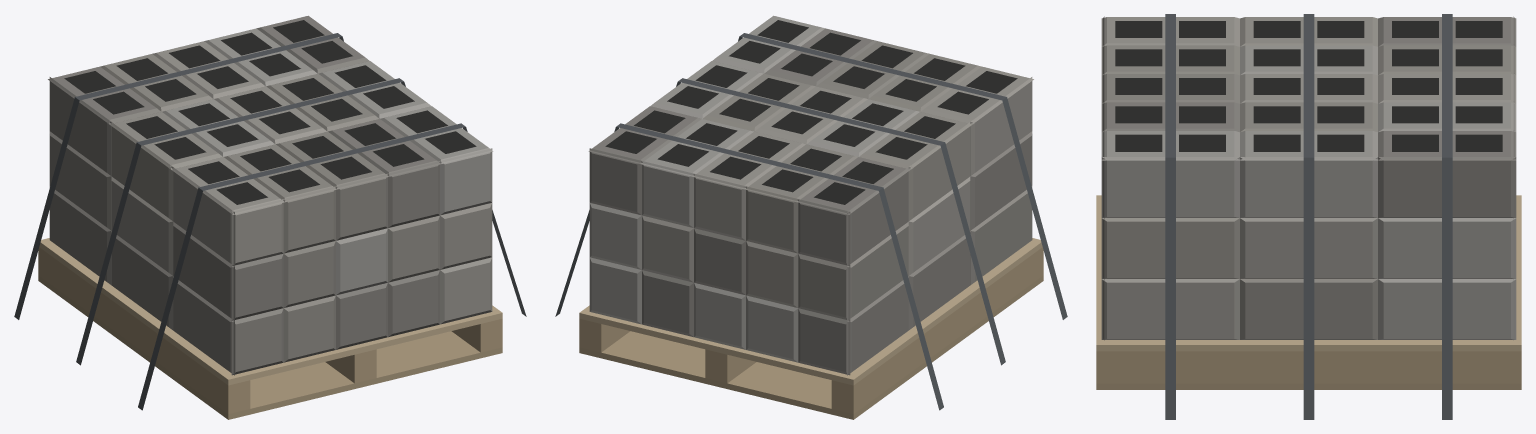
The model's file is cinder-block-pallet.glb.
The picture shows the model from 3 angles, left to right: view 1: azimuth 30°, elevation 25°; view 2: azimuth 150°, elevation 25°; view 3: azimuth 270°, elevation 25°; orthographic projection. The views are drawn at different scales.
Visible parts, largest first — view 1: CinderBlockPallet_BlockConcrete, CinderBlockPallet_PalletWood, CinderBlockPallet_BlockCore, CinderBlockPallet_Strap; view 2: CinderBlockPallet_BlockConcrete, CinderBlockPallet_PalletWood, CinderBlockPallet_BlockCore, CinderBlockPallet_Strap; view 3: CinderBlockPallet_BlockConcrete, CinderBlockPallet_BlockCore, CinderBlockPallet_PalletWood, CinderBlockPallet_Strap.
Boxes of the visible parts, x1,y1,x2,y2 form: CinderBlockPallet_BlockConcrete: (48,15,493,375); CinderBlockPallet_PalletWood: (38,238,502,419); CinderBlockPallet_BlockCore: (64,20,476,204); CinderBlockPallet_Strap: (14,33,526,410); CinderBlockPallet_BlockConcrete: (588,15,1033,375); CinderBlockPallet_PalletWood: (579,238,1043,419); CinderBlockPallet_BlockCore: (605,20,1017,204); CinderBlockPallet_Strap: (555,33,1067,410); CinderBlockPallet_BlockConcrete: (1101,16,1516,340); CinderBlockPallet_BlockCore: (1115,21,1502,151); CinderBlockPallet_PalletWood: (1096,195,1521,389); CinderBlockPallet_Strap: (1165,14,1452,419).
Bounding box in the file's own units: 1.4 × 0.714 × 1.2.
